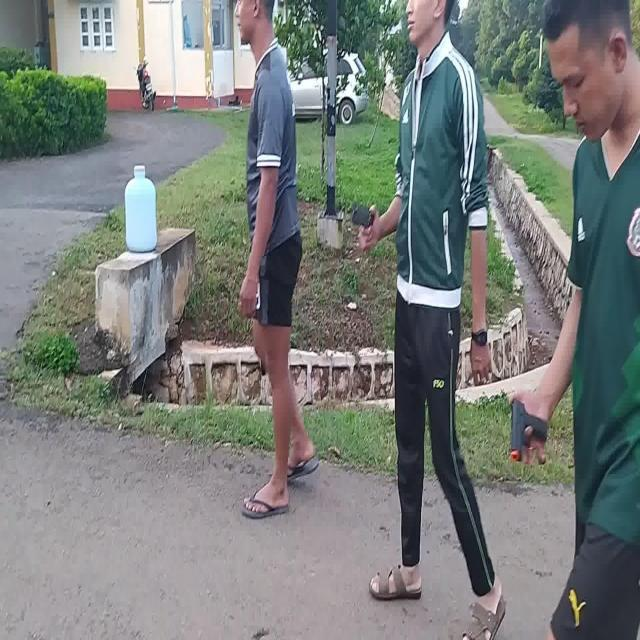gun: (511, 400, 549, 462), (260, 362, 268, 378)
